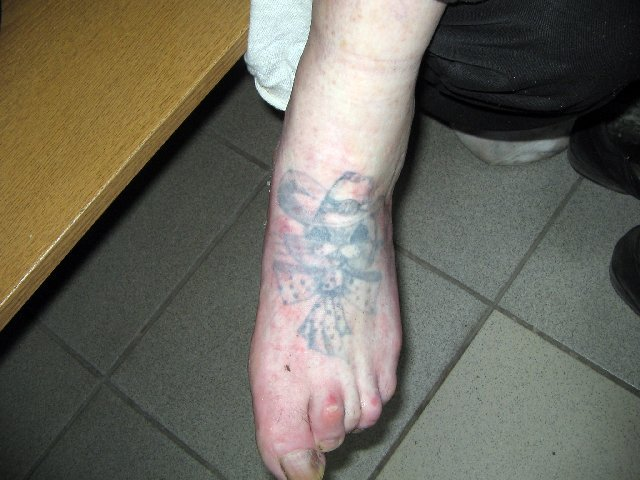tatu8_kot: (263, 155, 395, 357)
